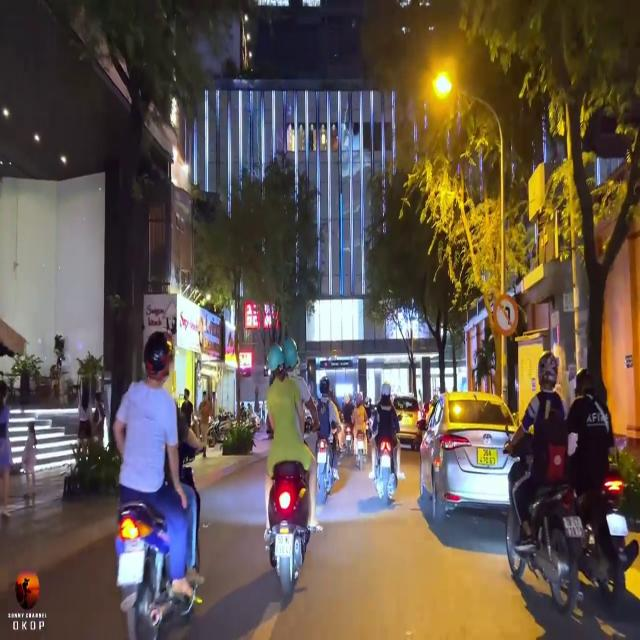bien_vang: (478, 445, 498, 467)
